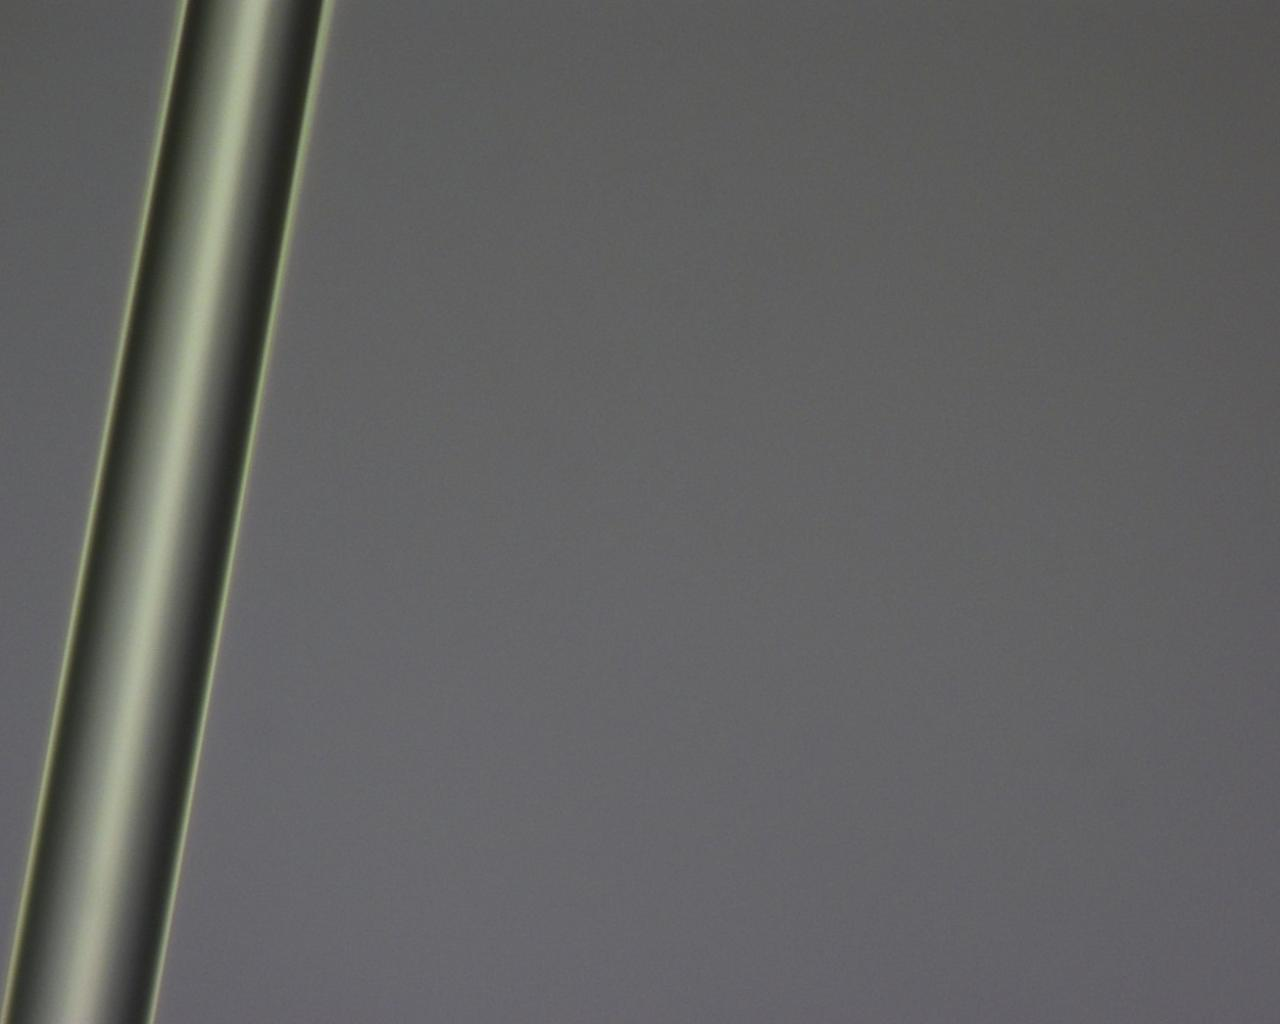fiber: (640, 14, 1280, 238), (730, 688, 1280, 941), (0, 532, 640, 640)
